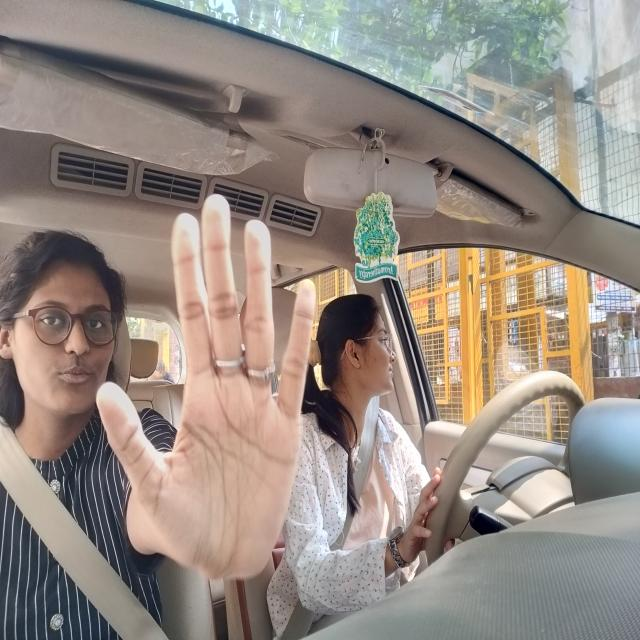LeftRight: (324, 299, 404, 407)
person: (14, 250, 122, 426)
